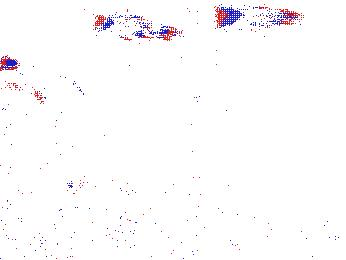redtail glassfish: (86, 10, 188, 45), (224, 3, 305, 29)
